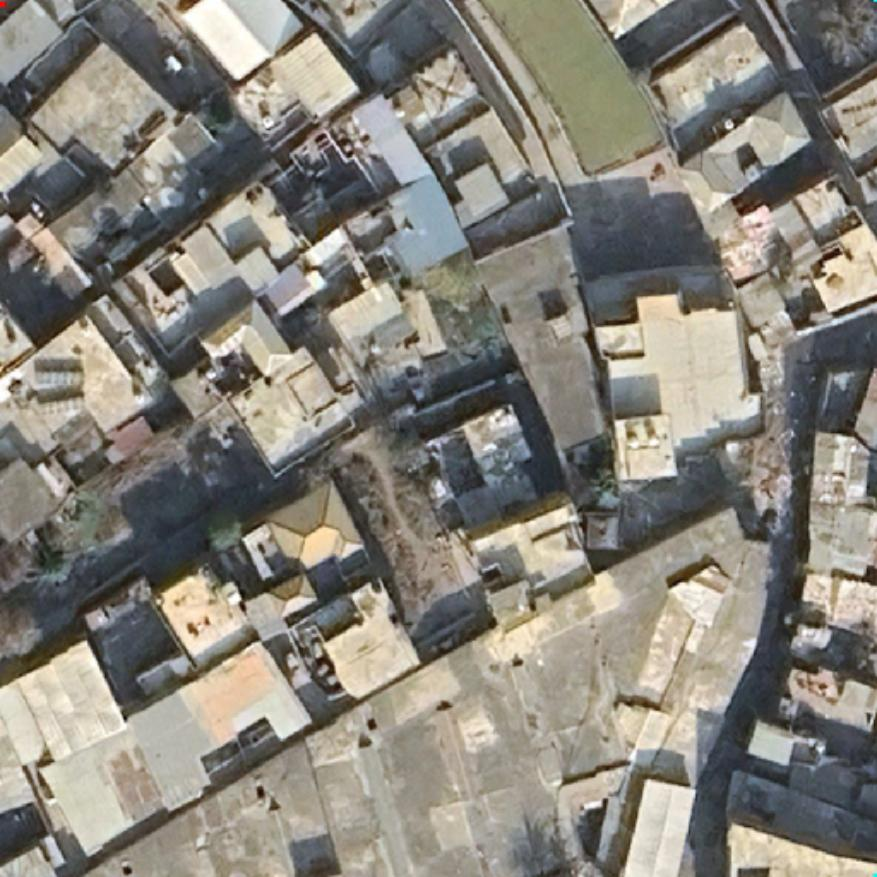Solarpanel: (30, 365, 89, 391), (43, 393, 94, 417)
